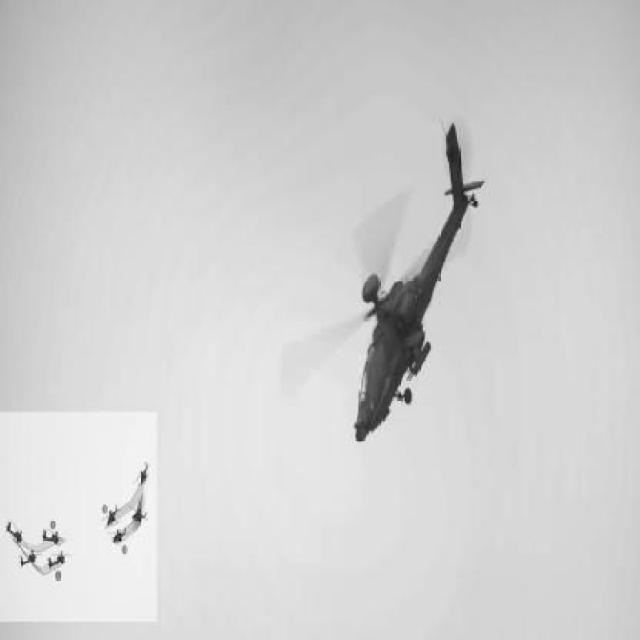Helicopter: (280, 113, 487, 446)
